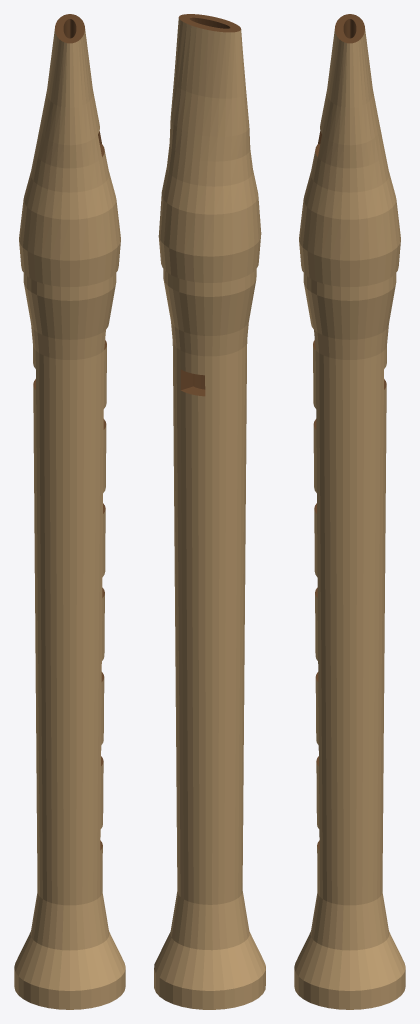
3 renders of one model, left to right at view 1: azimuth 90°, elevation 25°; view 2: azimuth 150°, elevation 25°; view 3: azimuth 270°, elevation 25°, orthographic.
Visible parts, largest first — view 1: WholeGroundFootTaperedFingerportBody, WholeOpenBeakHeadAndFrontWindow; view 2: WholeGroundFootTaperedFingerportBody, WholeOpenBeakHeadAndFrontWindow; view 3: WholeGroundFootTaperedFingerportBody, WholeOpenBeakHeadAndFrontWindow.
Part boxes in pixels (x1=…): WholeGroundFootTaperedFingerportBody: x1=14, y1=273, x2=125, y2=1009; WholeOpenBeakHeadAndFrontWindow: x1=19, y1=14, x2=120, y2=286; WholeGroundFootTaperedFingerportBody: x1=154, y1=269, x2=265, y2=1009; WholeOpenBeakHeadAndFrontWindow: x1=158, y1=14, x2=261, y2=282; WholeGroundFootTaperedFingerportBody: x1=294, y1=273, x2=405, y2=1009; WholeOpenBeakHeadAndFrontWindow: x1=299, y1=14, x2=400, y2=286.
Size of the model in its own units: 0.048 by 0.455 by 0.048.
